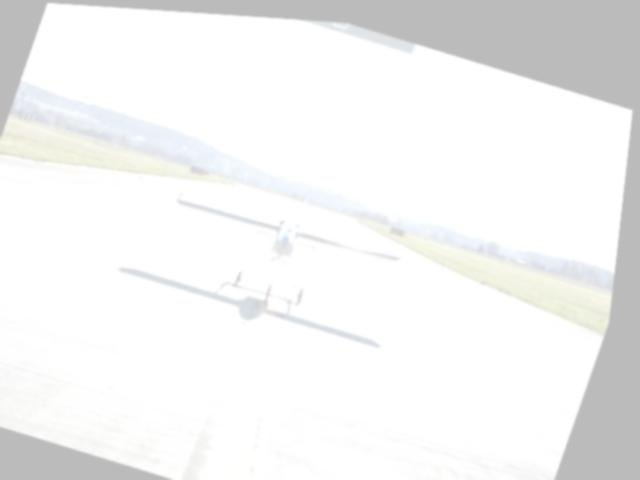uav: (150, 172, 419, 340)
